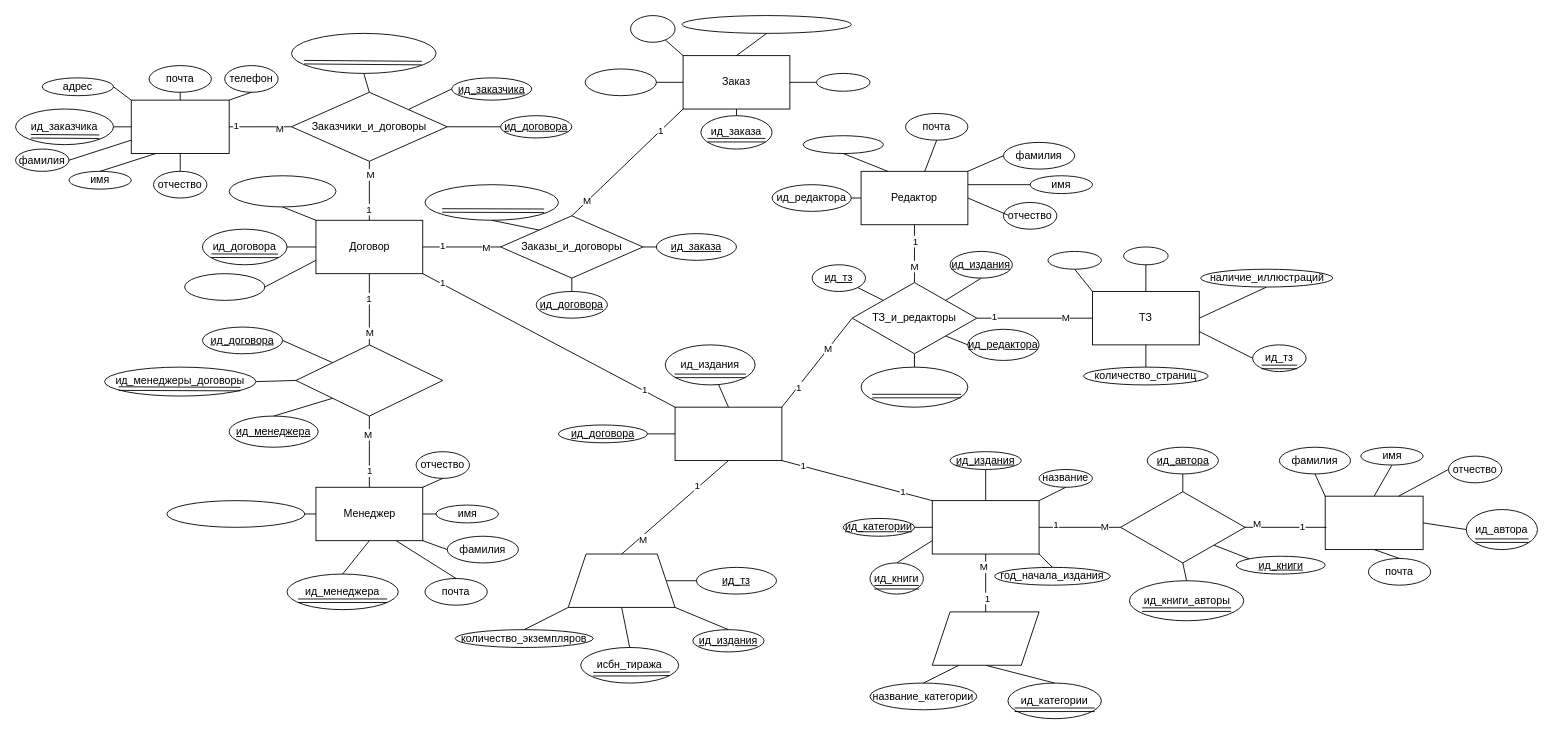
The diagram is 1553 pixels wide and 734 high, and some of its shapes have lost their labels. The shapes that lost their labels are listed below. From the top down, each one's centre as x and y in pixels, then its label:
At (652,28): "срок".
At (766,24): "количество_штук_в_заказе".
At (363,52): "ид_заказчики_договоры".
At (620,82): "дата_заказа".
At (843,82): "статус".
At (179,126): "Заказчик".
At (842,144): "должность".
At (282,191): "счет_предоплаты".
At (491,202): "ид_заказы_договоры".
At (1074,260): "переплет".
At (1145,255): "цена".
At (224,286): "счет_остатка".
At (369,380): "Менеджеры_и_договоры".
At (914,386): "ид_тз_редакторы".
At (728,433): "Издание".
At (235,513): "количество_договоров".
At (985,527): "Книга".
At (1182,527): "Книги_и_авторы".
At (1373,522): "Автор".
At (621,580): "Тираж".
At (985,638): "Категория".
